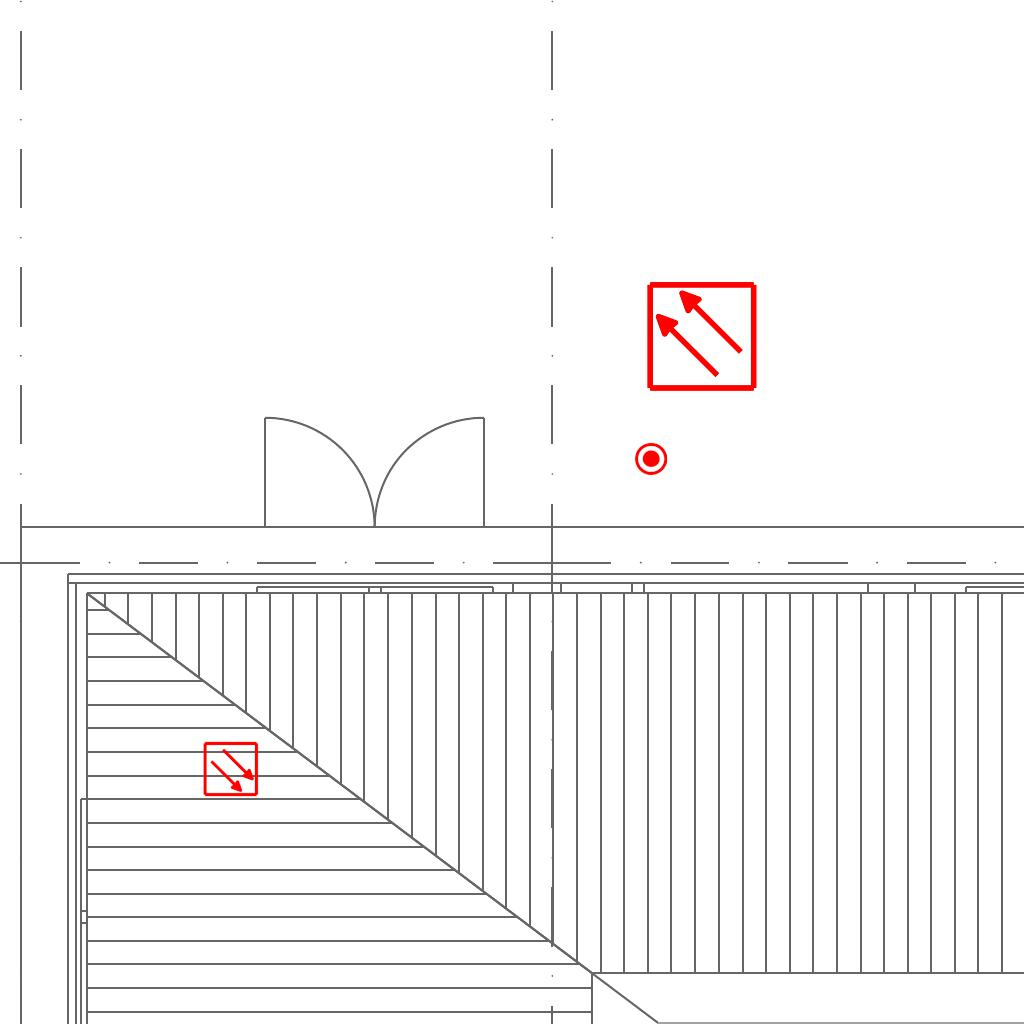RMO_Rauchmelder_optischer: (645, 280, 758, 393), (203, 741, 259, 797)
Taster: (634, 442, 667, 475)
